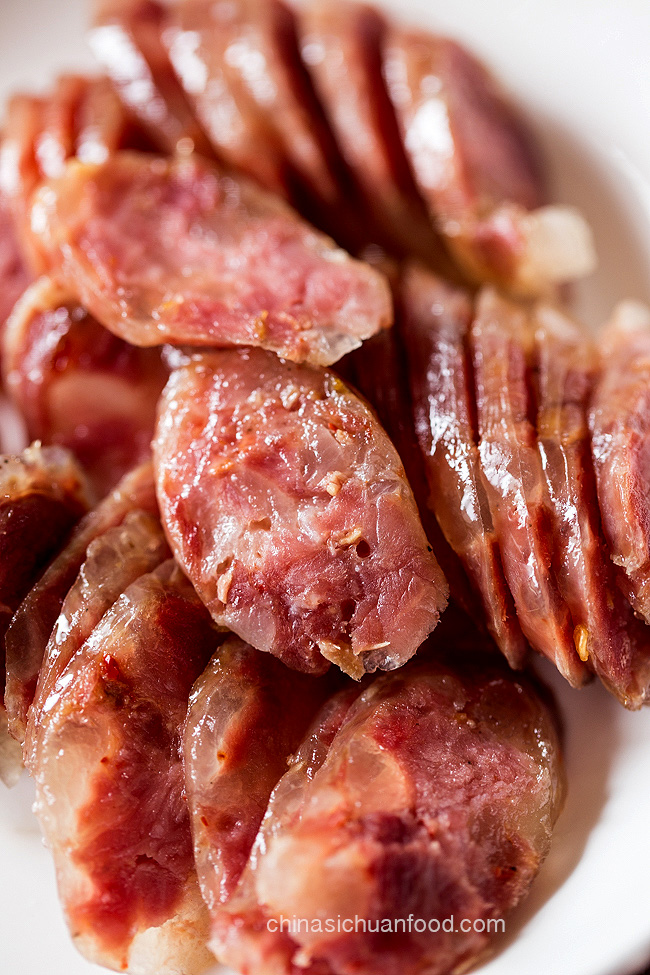chinese_sausage: (164, 374, 434, 648), (53, 177, 398, 358), (324, 683, 567, 911), (78, 603, 223, 917), (174, 670, 327, 907), (407, 308, 499, 668), (478, 323, 564, 671), (412, 53, 526, 292), (542, 332, 620, 669), (25, 308, 172, 469), (316, 22, 406, 243), (61, 510, 167, 687), (109, 9, 201, 191), (179, 1, 260, 203), (602, 339, 649, 653), (26, 477, 124, 623), (246, 17, 319, 191), (3, 96, 66, 282), (45, 73, 105, 223), (89, 78, 153, 213)
